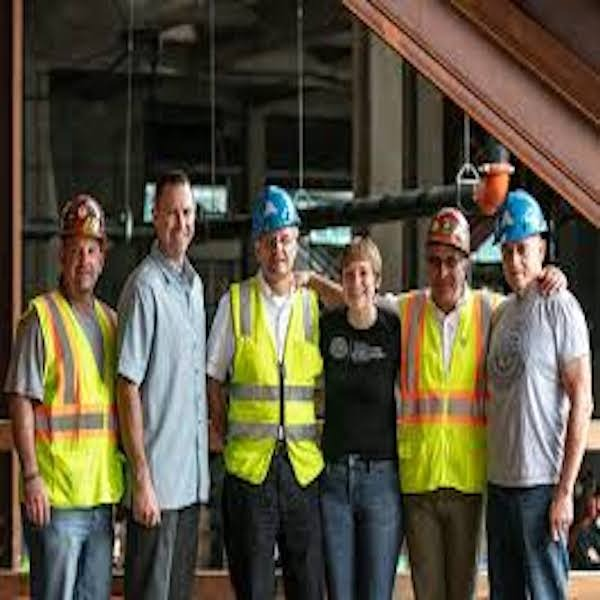vest: (23, 289, 125, 510), (400, 290, 496, 498), (229, 278, 313, 477), (493, 189, 551, 246), (250, 185, 300, 229)
